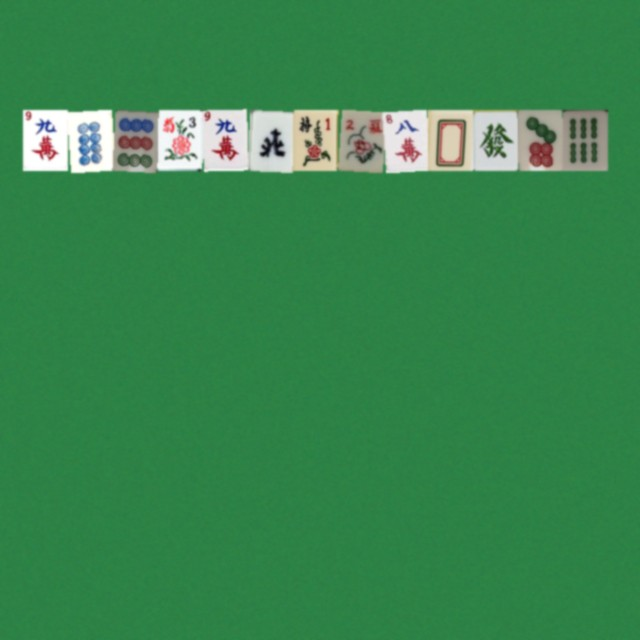tile: (22, 109, 67, 170), (67, 109, 112, 170), (112, 109, 157, 170), (157, 109, 202, 170), (202, 109, 247, 170), (247, 109, 292, 170), (292, 109, 337, 170), (337, 109, 382, 170), (382, 109, 427, 170), (427, 109, 472, 170), (472, 109, 517, 170), (517, 109, 562, 170), (562, 109, 607, 170)
